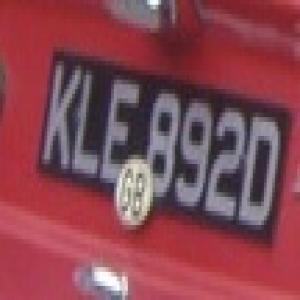Plate: (37, 48, 290, 240)
